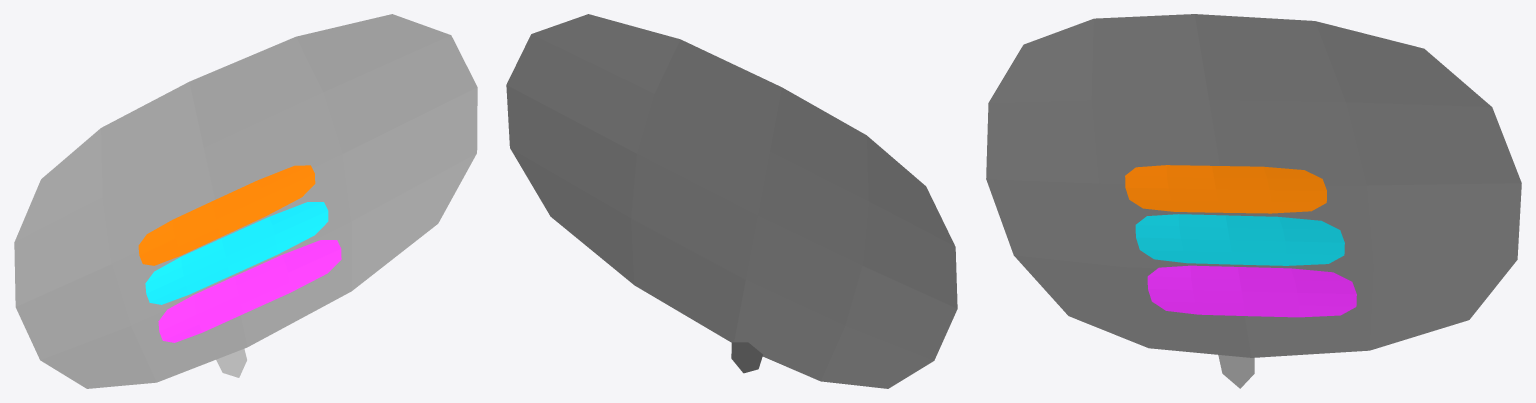
The model's file is bulleChef.fbx.
The picture shows the model from 3 angles, left to right: view 1: azimuth 30°, elevation 25°; view 2: azimuth 150°, elevation 25°; view 3: azimuth 330°, elevation 25°; orthographic projection. The views are drawn at different scales.
Parts seen in each view (by area): view 1: 1esCLnmO.022; view 2: 1esCLnmO.022; view 3: 1esCLnmO.022.
Part boxes in pixels (bbox=[...]): 1esCLnmO.022: bbox=[14, 14, 477, 388]; 1esCLnmO.022: bbox=[506, 14, 957, 388]; 1esCLnmO.022: bbox=[986, 14, 1521, 388].
Bounding box in the file's own units: 169 × 115 × 6.07.
